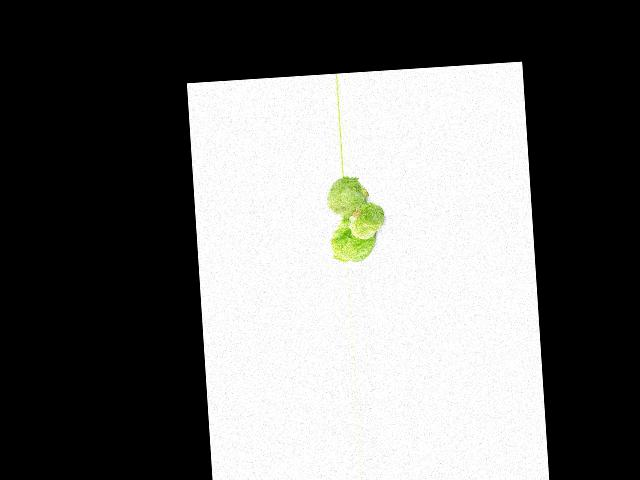lettuce: (332, 222, 373, 261)
